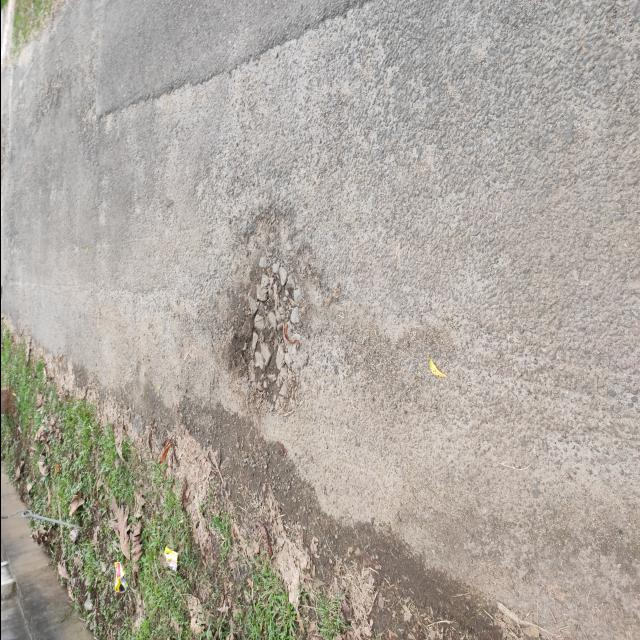cracks: (221, 230, 307, 430)
